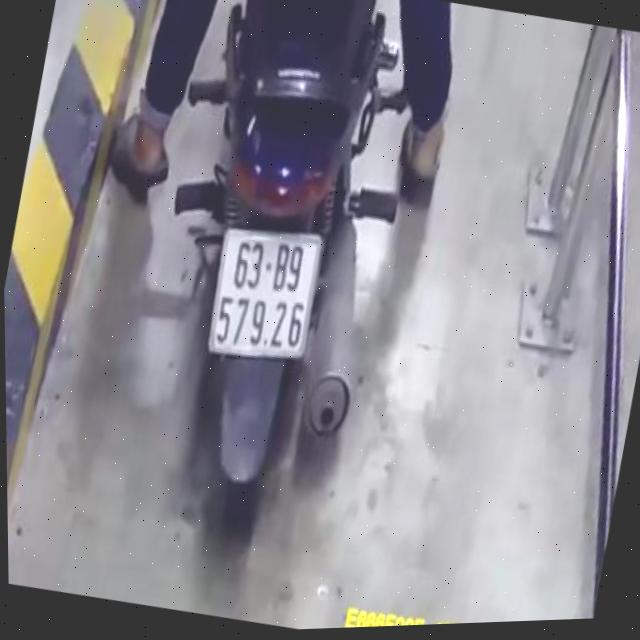motorcycle: (107, 0, 444, 571)
plate: (202, 215, 332, 370)
